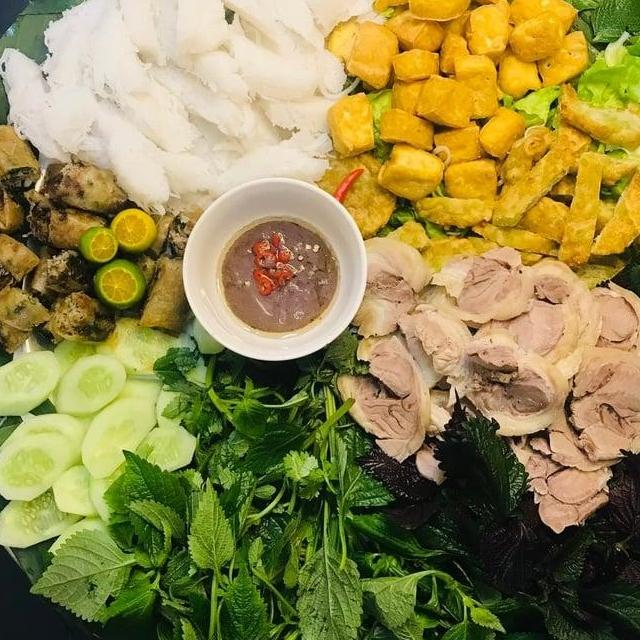bun: (0, 0, 400, 228)
bun dau: (0, 0, 640, 640)
cha com: (394, 85, 640, 277)
cha gio: (0, 119, 210, 358)
dau hu: (307, 0, 596, 224)
thit heo: (500, 395, 620, 540), (478, 253, 608, 385), (328, 325, 442, 469), (452, 331, 572, 443), (332, 232, 436, 344), (422, 241, 540, 328), (391, 295, 478, 409), (563, 340, 640, 467), (580, 272, 640, 371)
